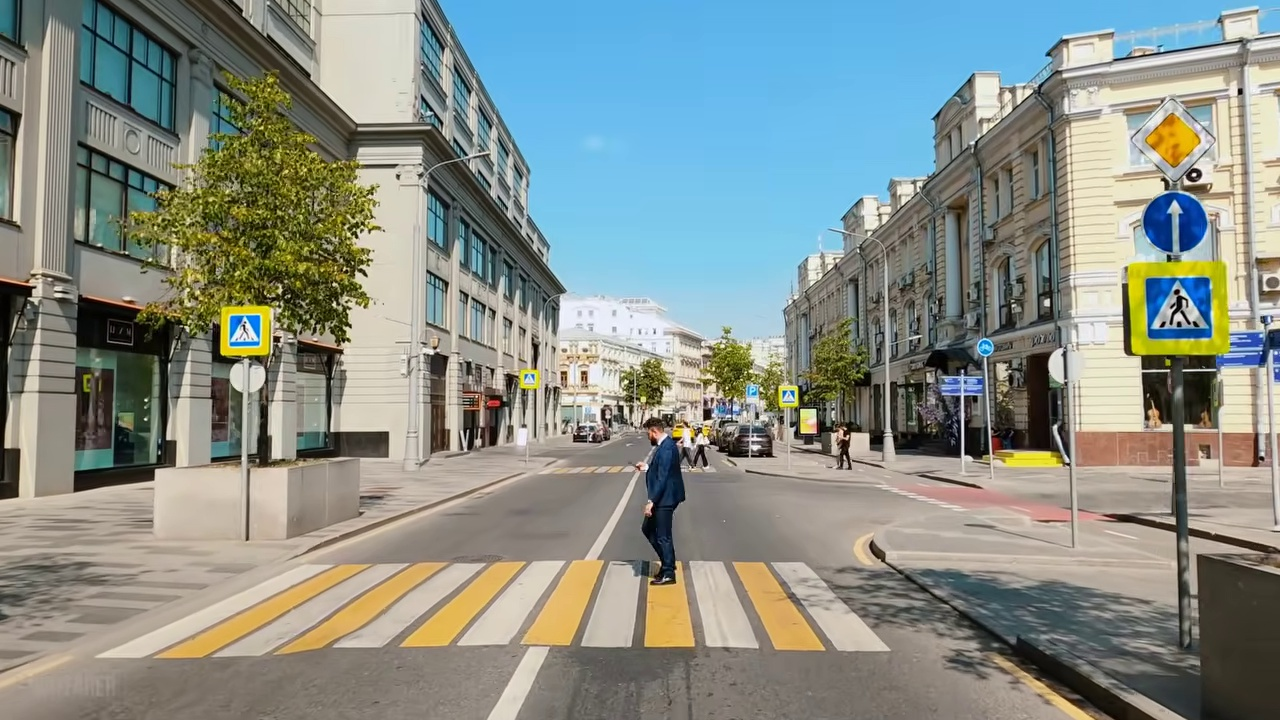apagada: (818, 218, 854, 241)
